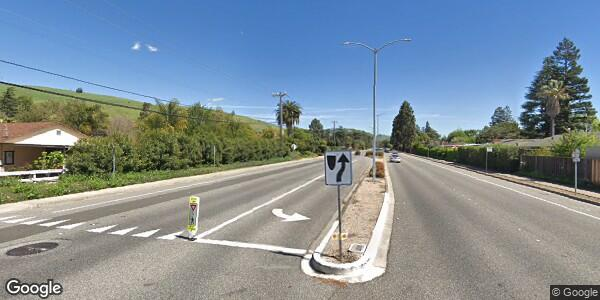Steel_Pole: (340, 35, 414, 147)
Wood_Pole: (269, 88, 289, 147)
